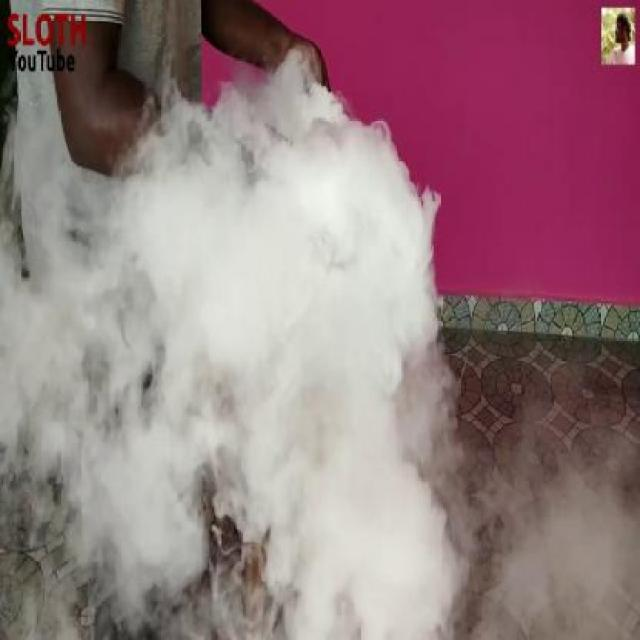smoke: (172, 186, 538, 557)
